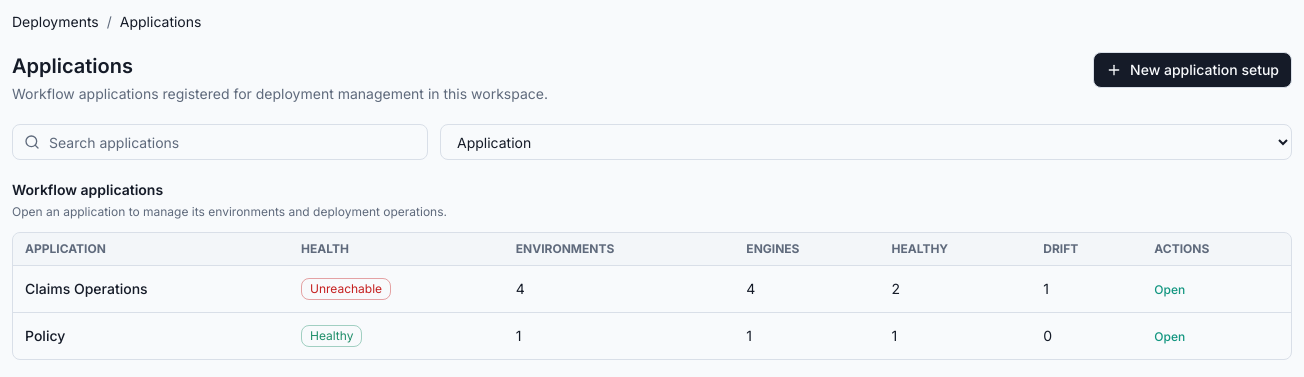
Scenario: DeploymentsPage › renders application list on a dedicated route
Check: the heading "Applications" is shown, box [12,54,133,78]
Check: the heading "Workflow applications" is shown, box [12,181,163,198]
Step 1. Type "Policy" into the field with placeholder "Search applications" → (220, 142), box [12,124,428,160]
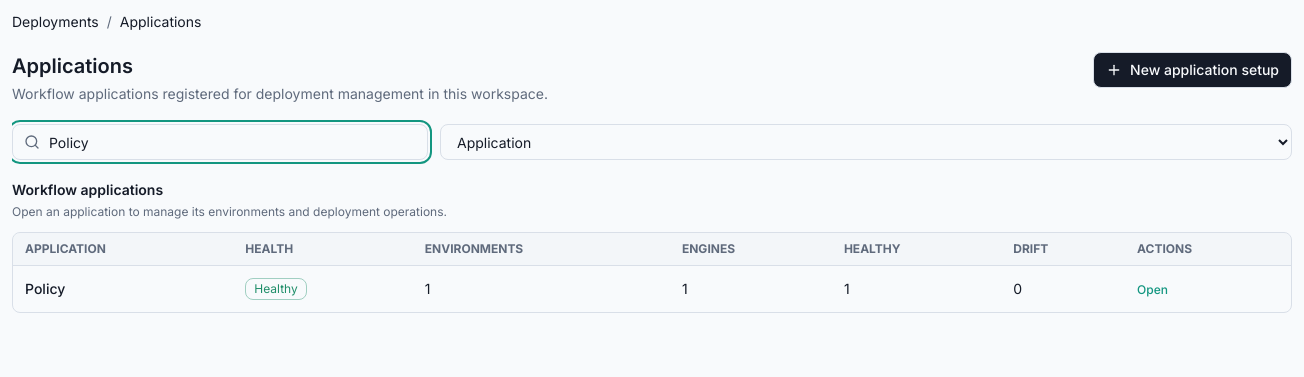
Check: the link "Policy" is shown, box [25,280,65,297]
Check: the link "Claims Operations" is gone
